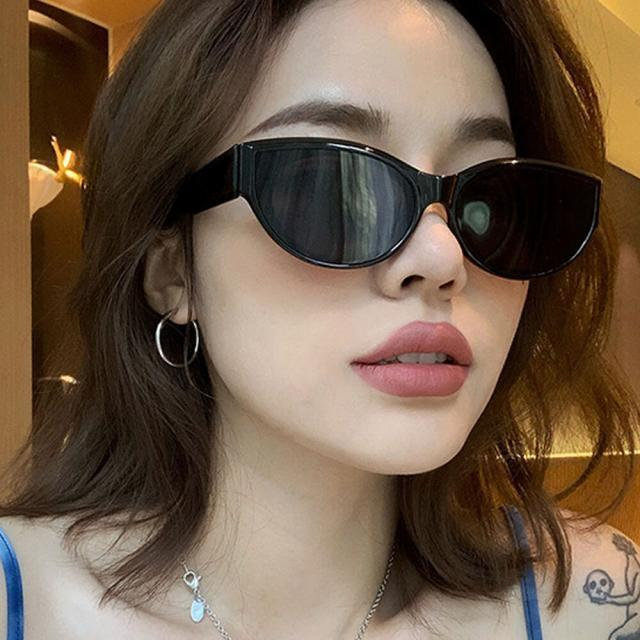2_gafas: (176, 133, 602, 281)
